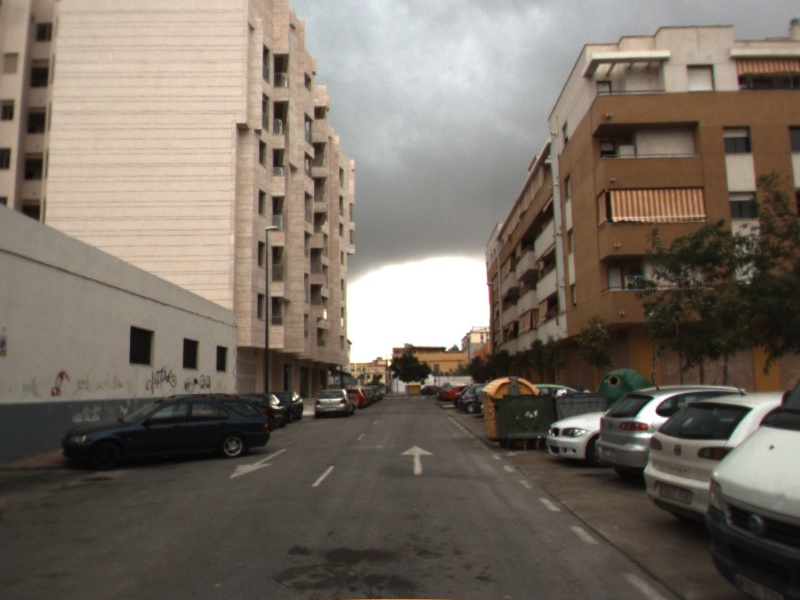STRAIGHT: (399, 442, 438, 477)
